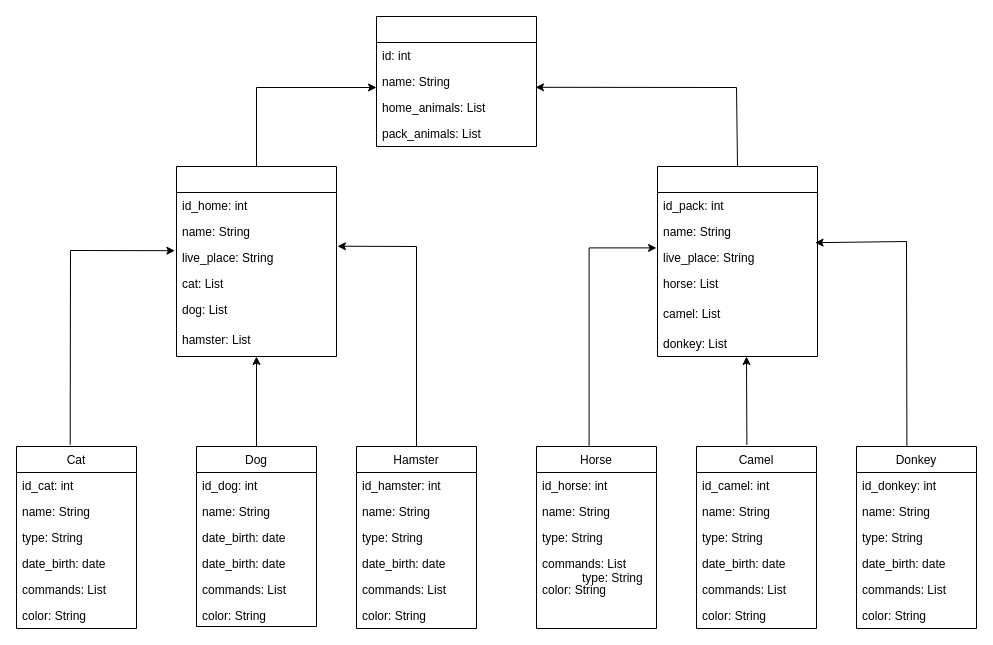
Some shapes in this 993 by 645 pixel diagram are drawn without their labels. The box of each missing label's shape, as (x1, y1, x2, y2) in pixels:
Home_Animals: (176, 166, 336, 356)
Humans_Frends: (376, 16, 536, 146)
Pack_Animals: (656, 166, 818, 356)
